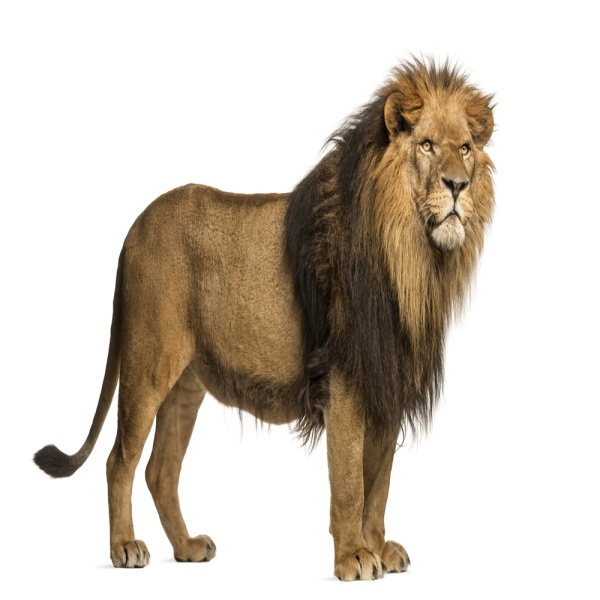Lion: (30, 51, 502, 584)
